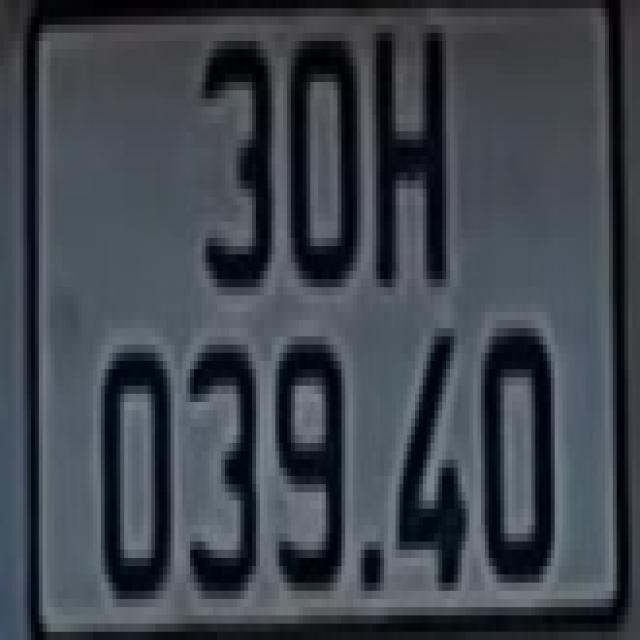0: (477, 312, 559, 582), (97, 336, 175, 599), (288, 24, 360, 288)
3: (198, 32, 276, 288), (186, 336, 260, 599)
4: (392, 320, 469, 591)
9: (272, 320, 350, 591)
H: (368, 16, 454, 288)
